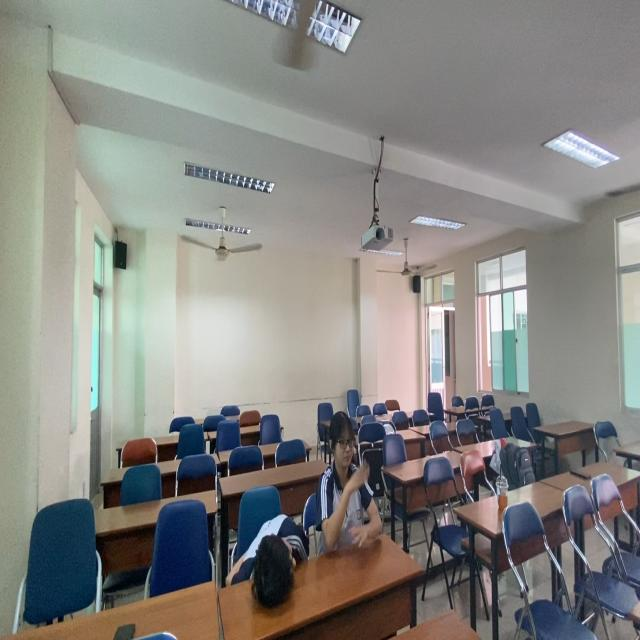raise_hand: (319, 406, 387, 559)
sleep: (227, 517, 317, 610)
